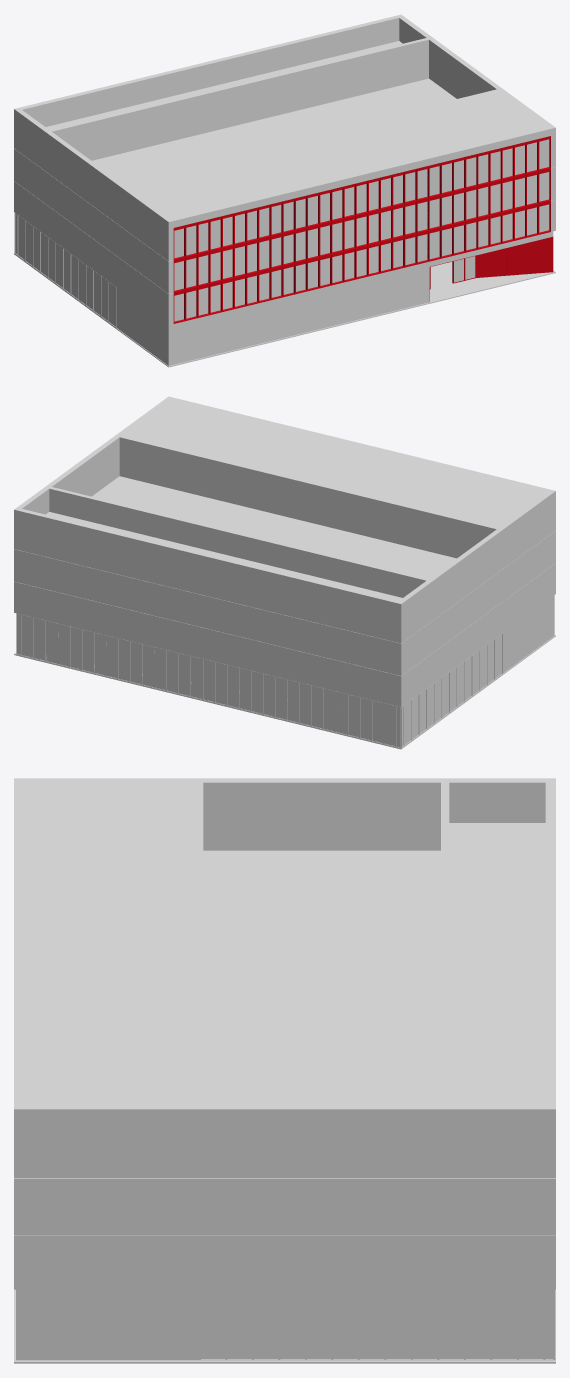
The model's file is Campus-3D_Rits_022-Detail.fbx.
3 renders of one model, top to bottom at view 1: azimuth 30°, elevation 25°; view 2: azimuth 150°, elevation 25°; view 3: azimuth 270°, elevation 25°, orthographic. The views are drawn at different scales.
Visible parts, largest first — view 1: Building, Cube, Roof - Rooms, Cube.001, Plane; view 2: Building, Cube, Roof - Rooms, Cube.001; view 3: Building, Cube, Roof - Rooms, Cube.001.
Part boxes in pixels (x1=…): Building: x1=14, y1=14, x2=555, y2=367; Cube: x1=46, y1=38, x2=456, y2=181; Roof - Rooms: x1=121, y1=90, x2=547, y2=218; Cube.001: x1=120, y1=89, x2=497, y2=182; Plane: x1=430, y1=262, x2=452, y2=287; Building: x1=14, y1=396, x2=555, y2=749; Cube: x1=46, y1=476, x2=456, y2=600; Roof - Rooms: x1=121, y1=400, x2=547, y2=527; Cube.001: x1=119, y1=436, x2=497, y2=558; Building: x1=14, y1=778, x2=555, y2=1363; Cube: x1=203, y1=782, x2=545, y2=1104; Roof - Rooms: x1=24, y1=782, x2=198, y2=1104; Cube.001: x1=198, y1=782, x2=203, y2=1104.
Bounding box in the file's own units: 4137 × 1484 × 2863.
